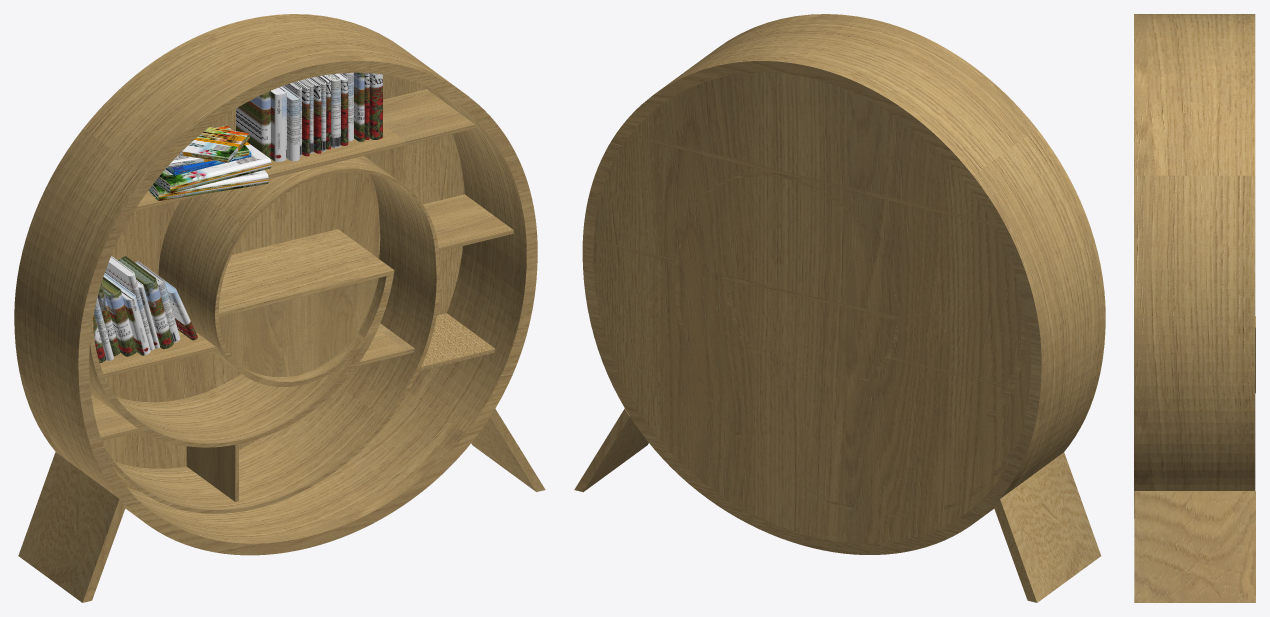
The model's file is shelf1.obj.
The picture shows the model from 3 angles, left to right: view 1: azimuth 30°, elevation 25°; view 2: azimuth 150°, elevation 25°; view 3: azimuth 270°, elevation 25°; orthographic projection. The views are drawn at different scales.
Parts seen in each view (by area): view 1: Shape01; view 2: Shape01; view 3: Shape01.
Part boxes in pixels (box(x1,y1,x2,y2)): Shape01: box(14, 14, 545, 602); Shape01: box(574, 14, 1105, 602); Shape01: box(1134, 14, 1255, 602).
Size of the model in its own units: 1.99 by 1.95 by 0.4736.
Materials: 4 (4 with a texture image).
